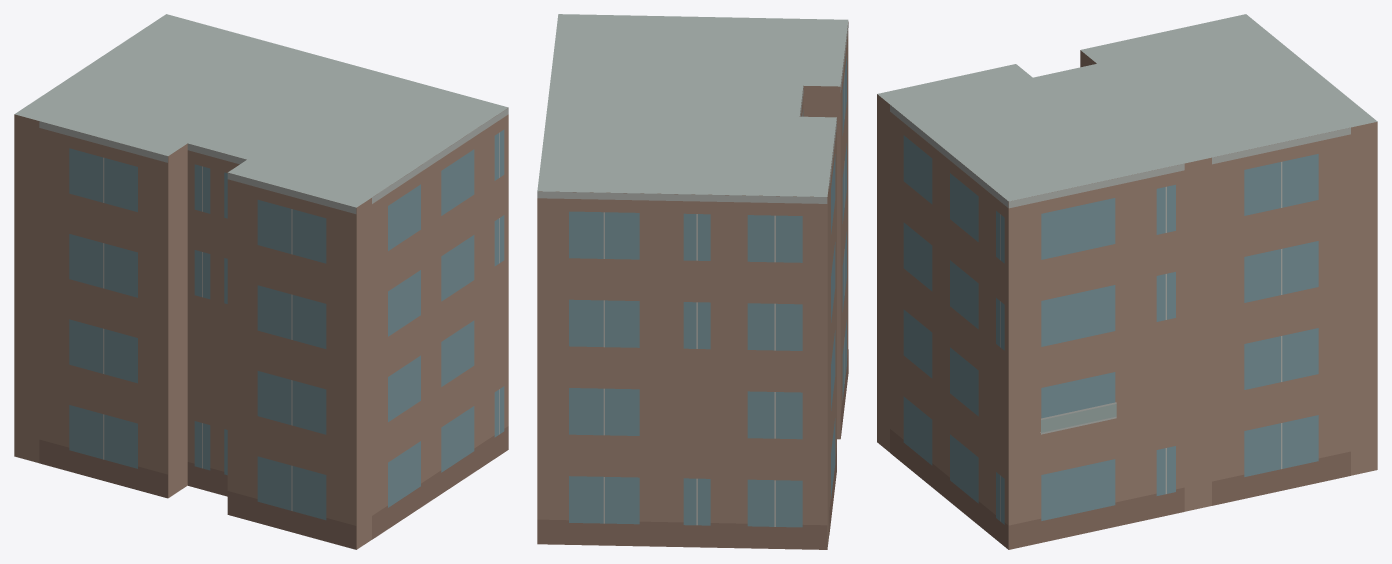
File: survey-upis-32738546.glb
3 views of the same model, side by side, from view 1: azimuth 30°, elevation 25°; view 2: azimuth 150°, elevation 25°; view 3: azimuth 270°, elevation 25° (orthographic). The views are drawn at different scales.
Parts seen in each view (by area): view 1: survey-upis-32738546.tmp; view 2: survey-upis-32738546.tmp; view 3: survey-upis-32738546.tmp.
Boxes of the visible parts, bbox=[...] form: survey-upis-32738546.tmp: bbox=[14, 14, 508, 549]; survey-upis-32738546.tmp: bbox=[537, 14, 848, 549]; survey-upis-32738546.tmp: bbox=[877, 14, 1377, 549].
Bounding box in the file's own units: 14.33 × 12.4 × 16.16.
